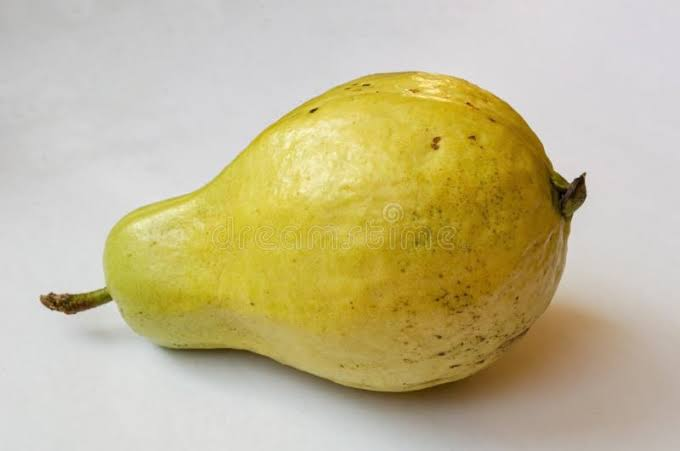guava: (12, 77, 545, 424)
